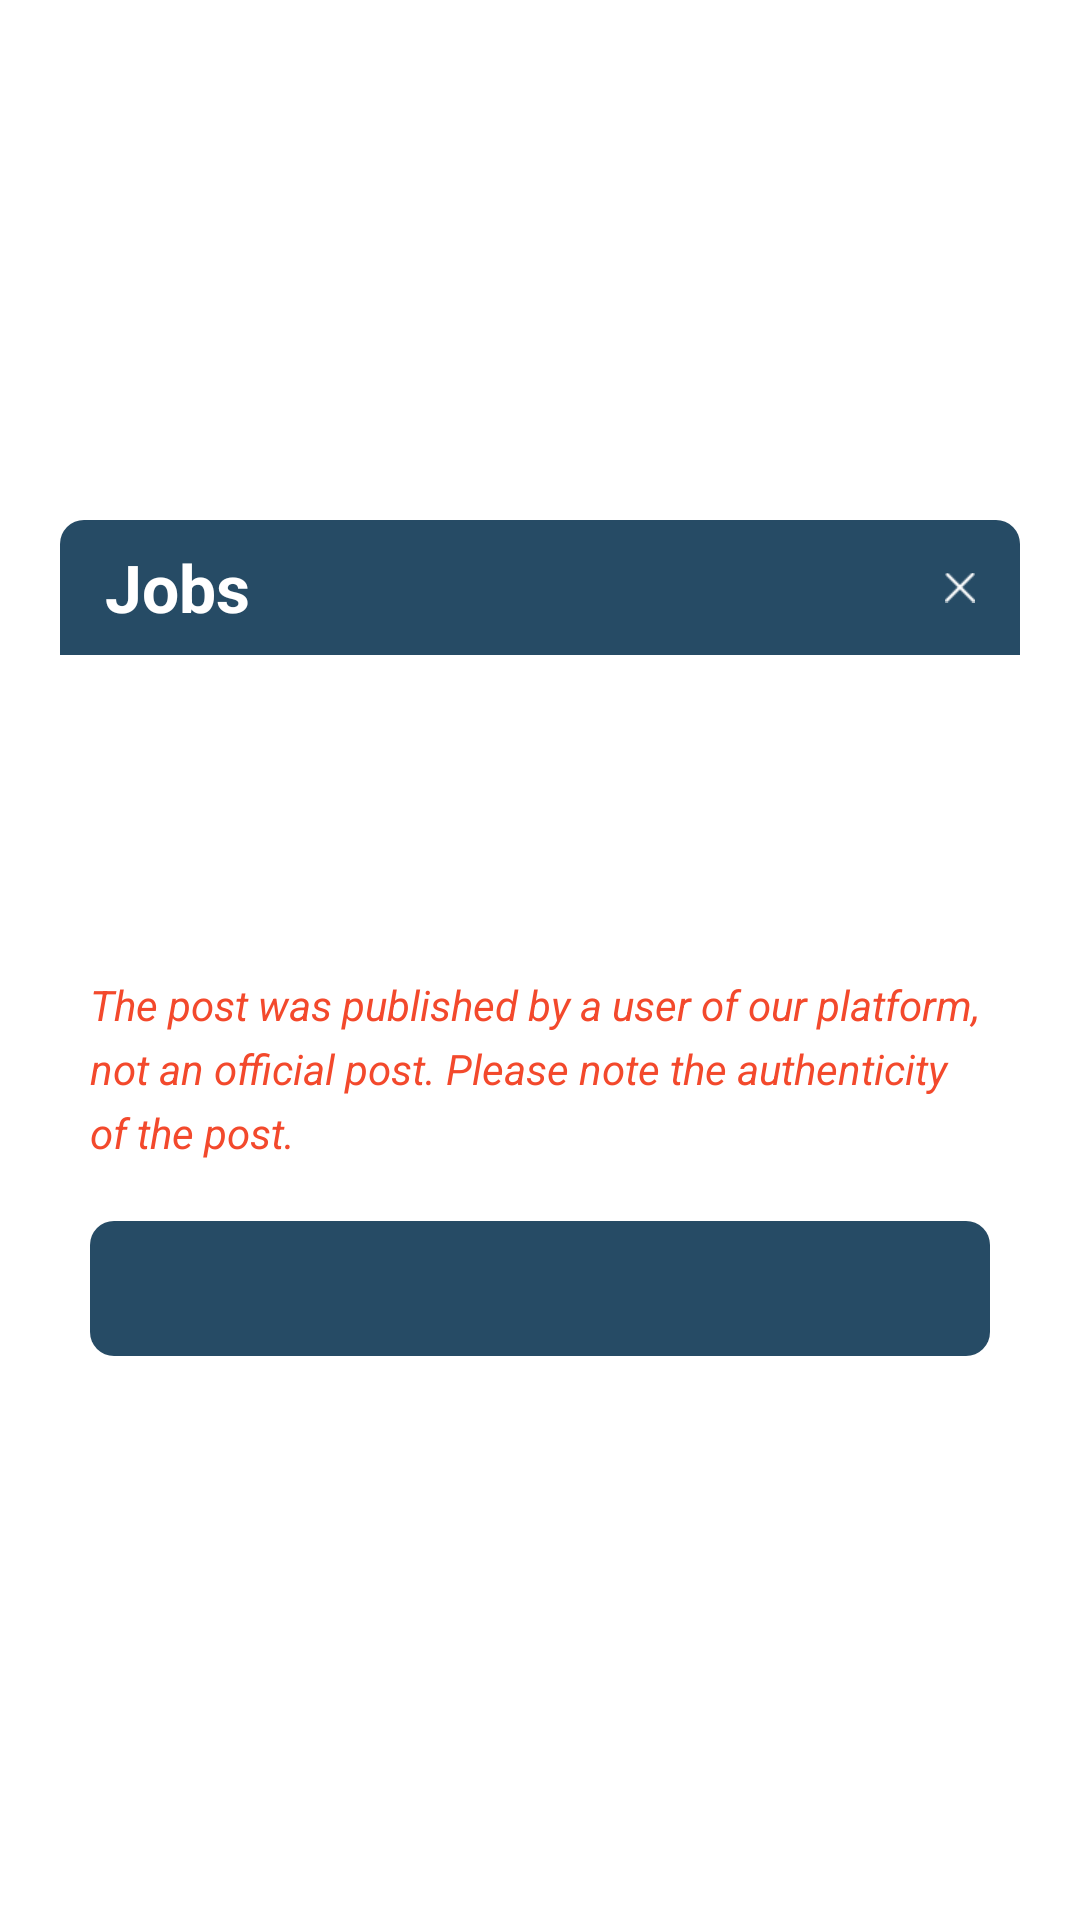

Named icons in this screenshot (1080px×1920px) and their centers, (x=x, y=y):
close: (x=960, y=588)
